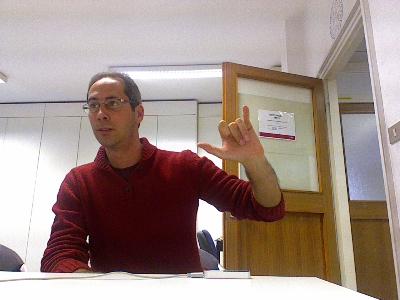六六六: (194, 102, 265, 164)
